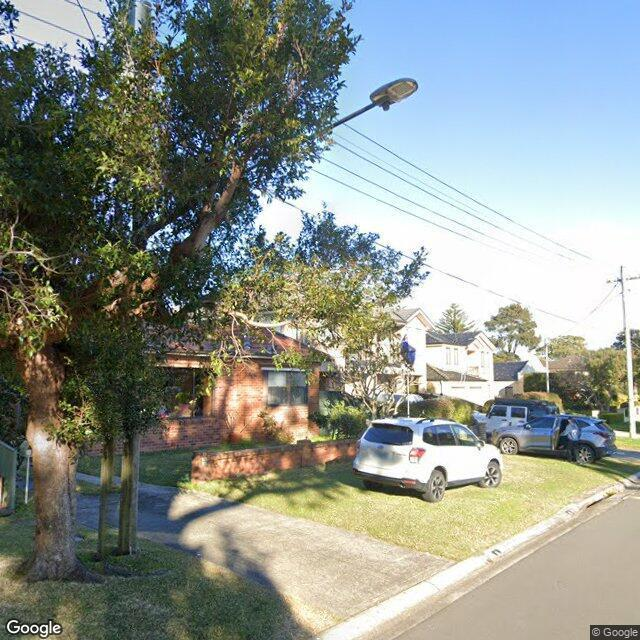crossarm: (606, 274, 640, 284)
streetlight: (237, 77, 419, 177)
timber-pole: (120, 192, 148, 552), (620, 265, 636, 439)
